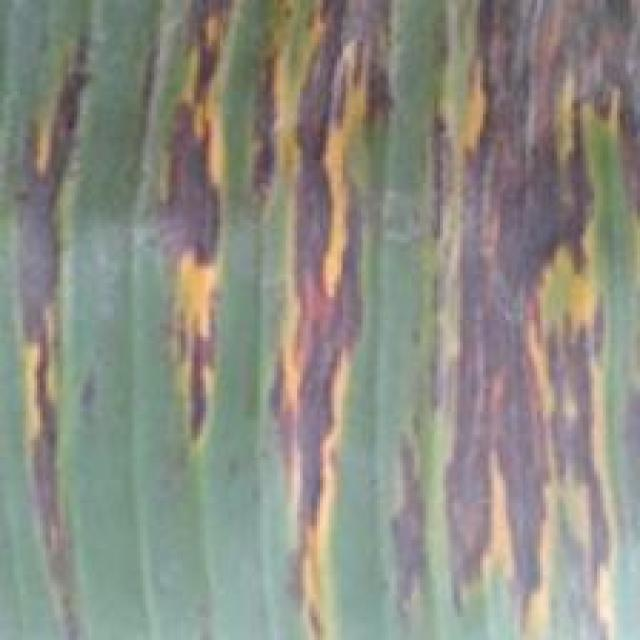Early_leaf_spot: (405, 0, 640, 640), (220, 0, 380, 637), (0, 0, 96, 589), (122, 0, 223, 437)
